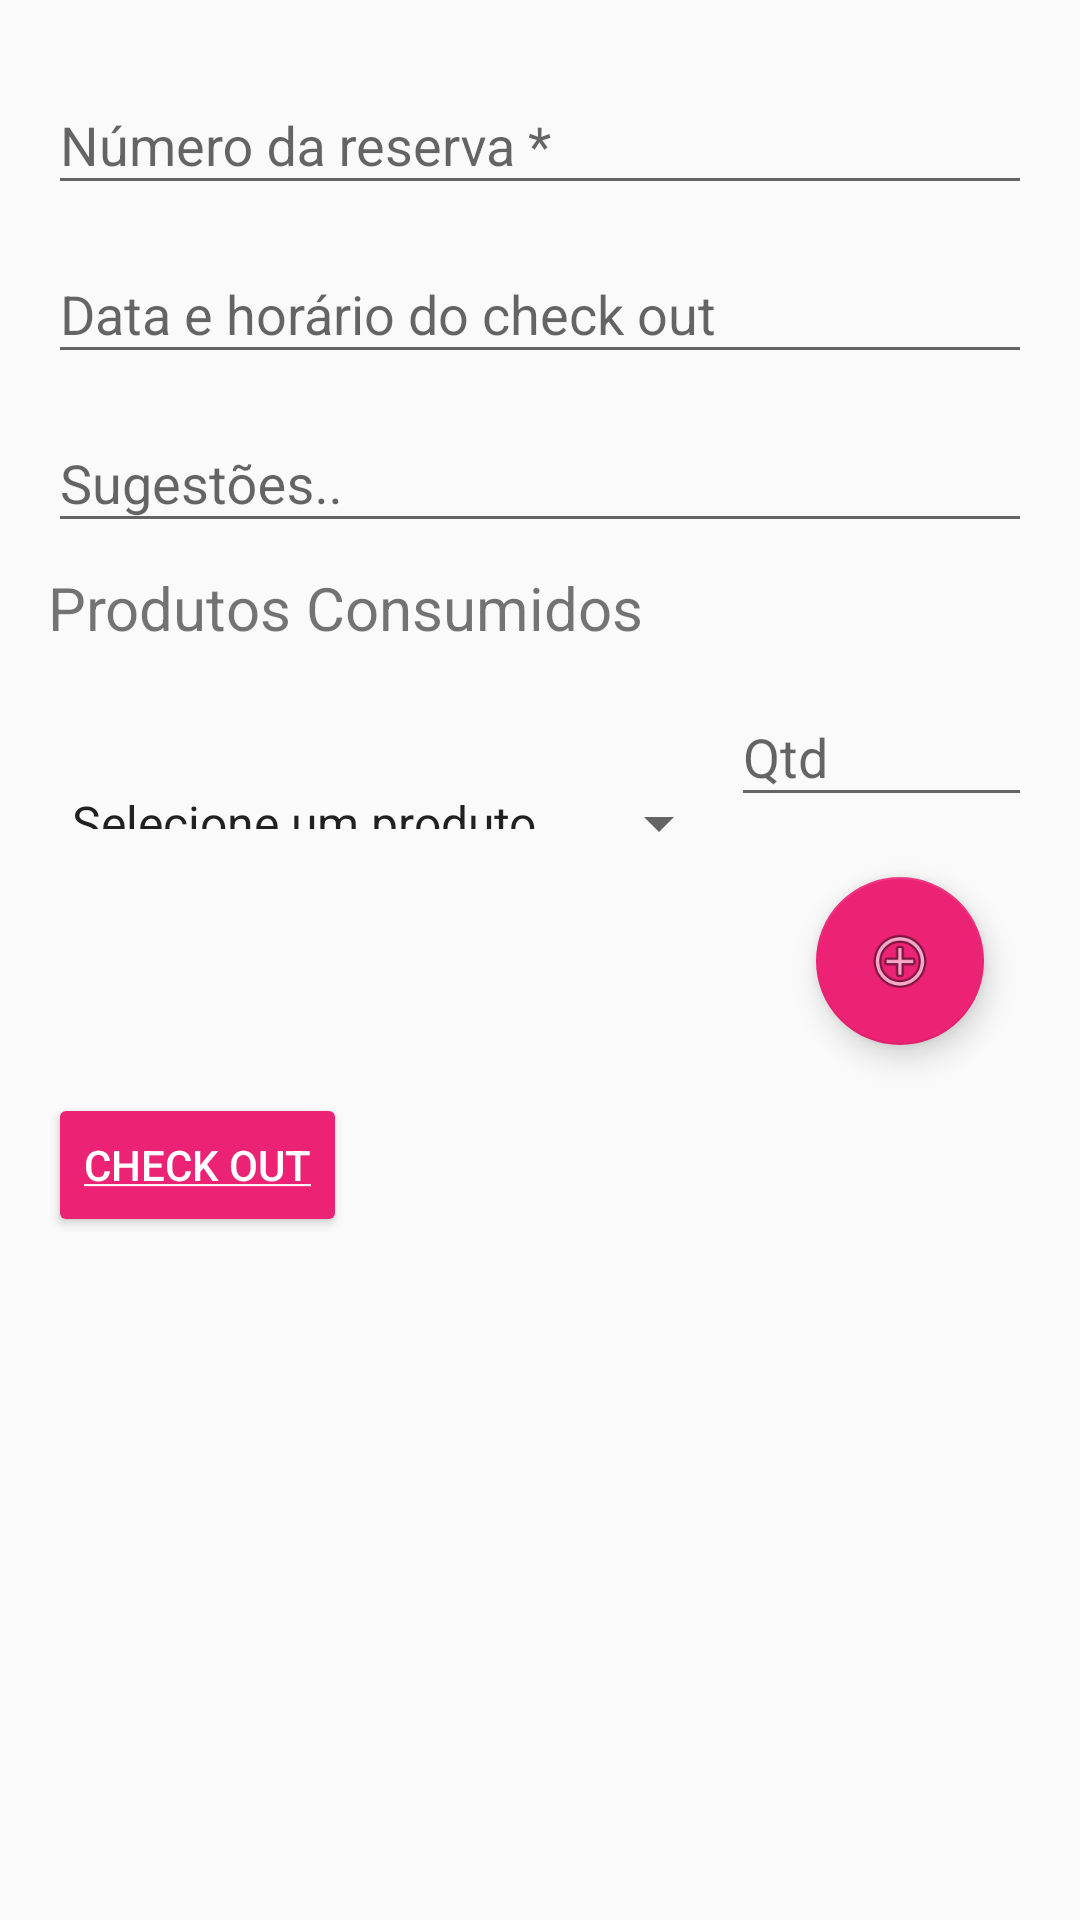

Icon click points for this 1080 × 1920 phone screenshot, format (x=x, y=y):
add: (x=900, y=961)
